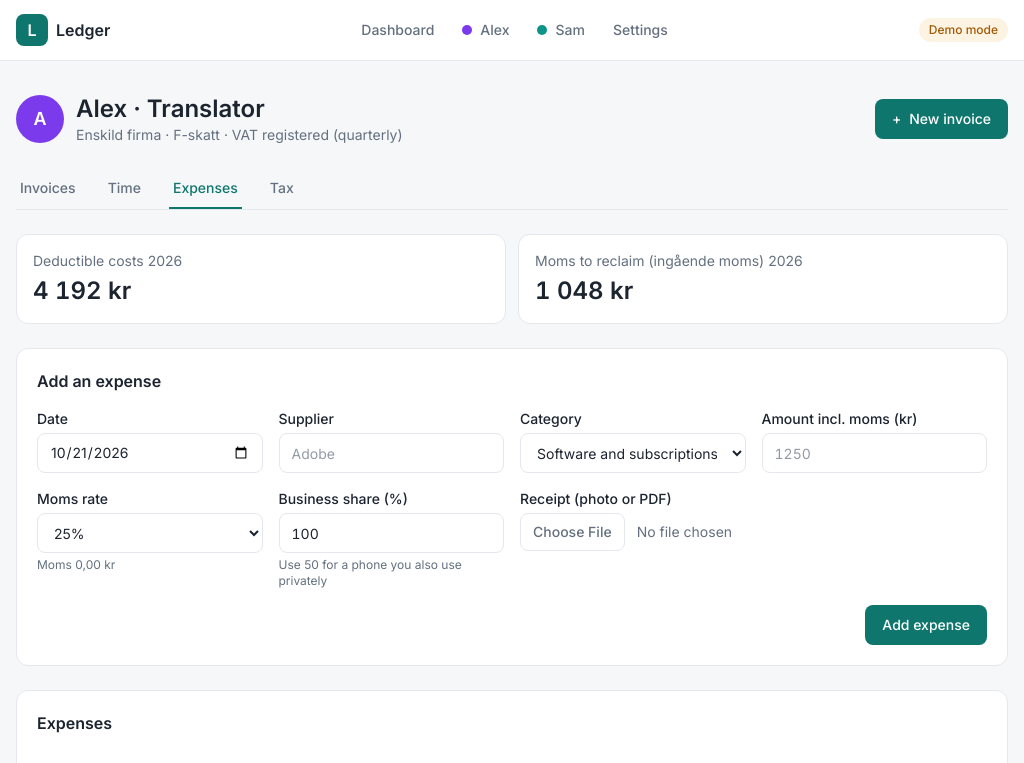
Test: Expenses page › adds an expense and splits out the moms for a VAT-registered person
The width and height of the screenshot is (1024, 763).
In the field labelled "Supplier": (391, 453) [278, 433, 504, 473], type "Clas Ohlson"
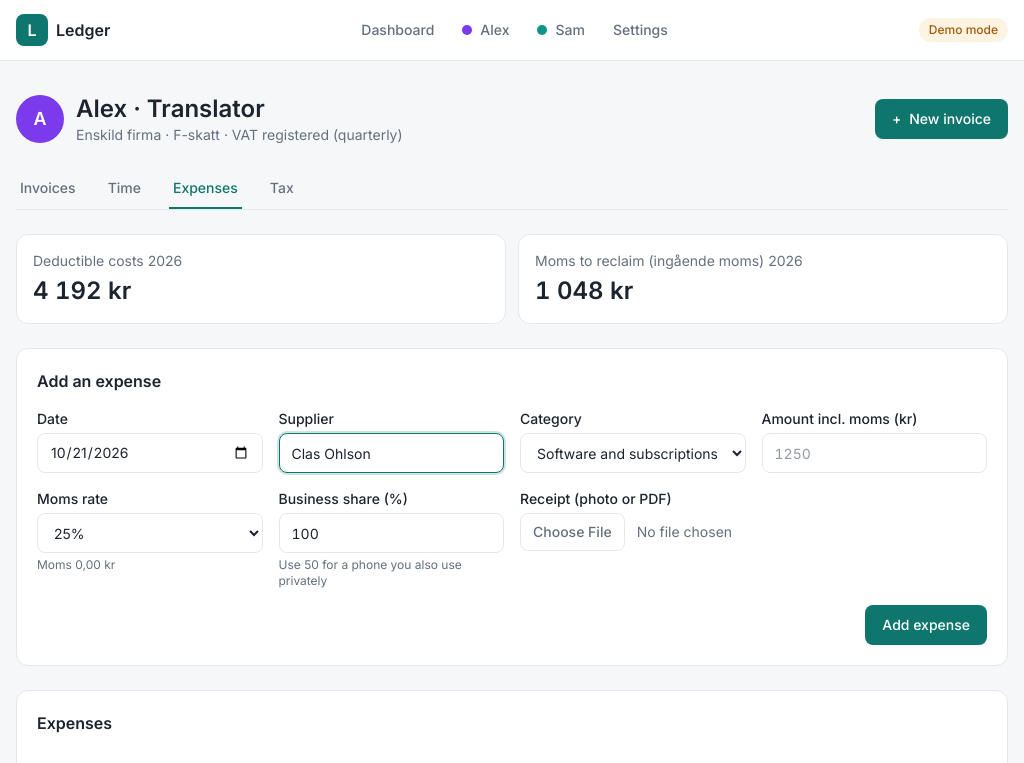
In the field labelled "Amount incl. moms (kr)": (874, 453) [762, 433, 987, 473], type "500"
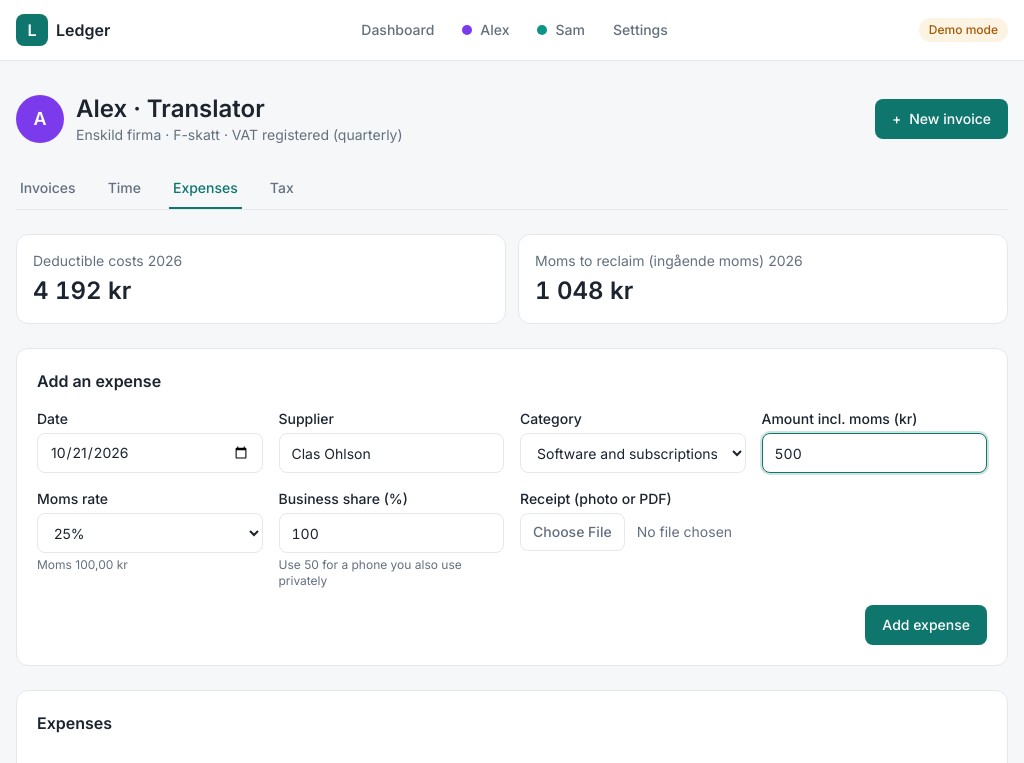
Click the button "Add expense": click(926, 625) [865, 605, 987, 645]
(page scrolled)
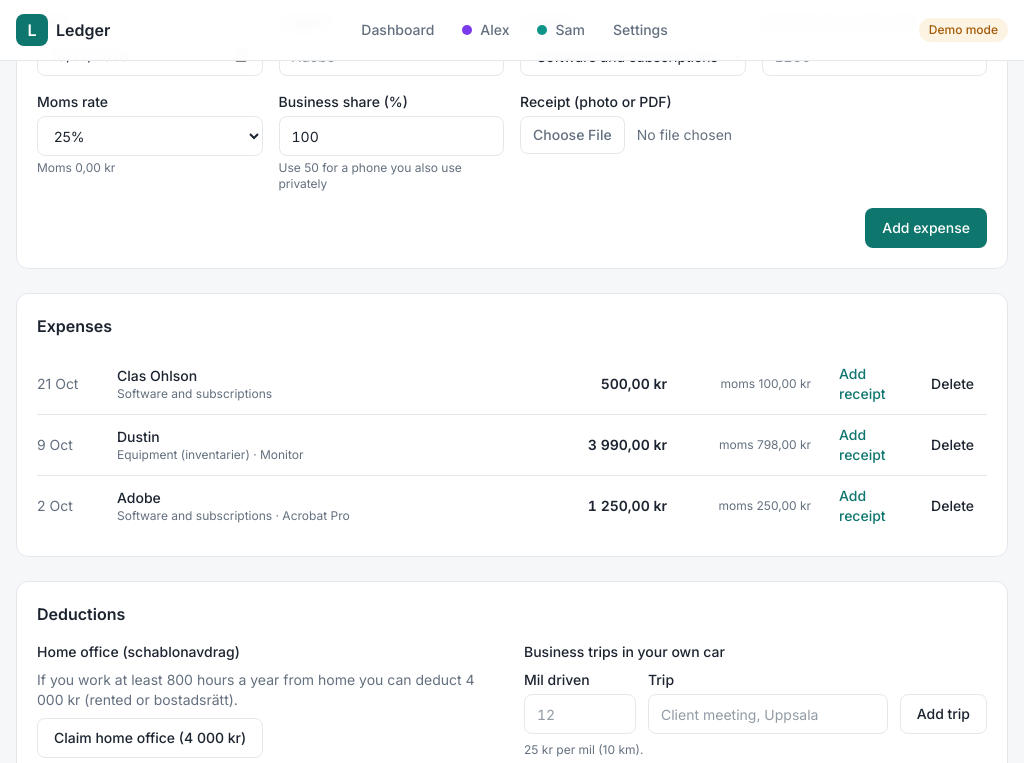
Result: the list item "Clas Ohlson" shows "500,00 kr" at [601, 375, 667, 392]
Result: the list item "Clas Ohlson" shows "moms 100,00 kr" at [721, 376, 811, 391]
